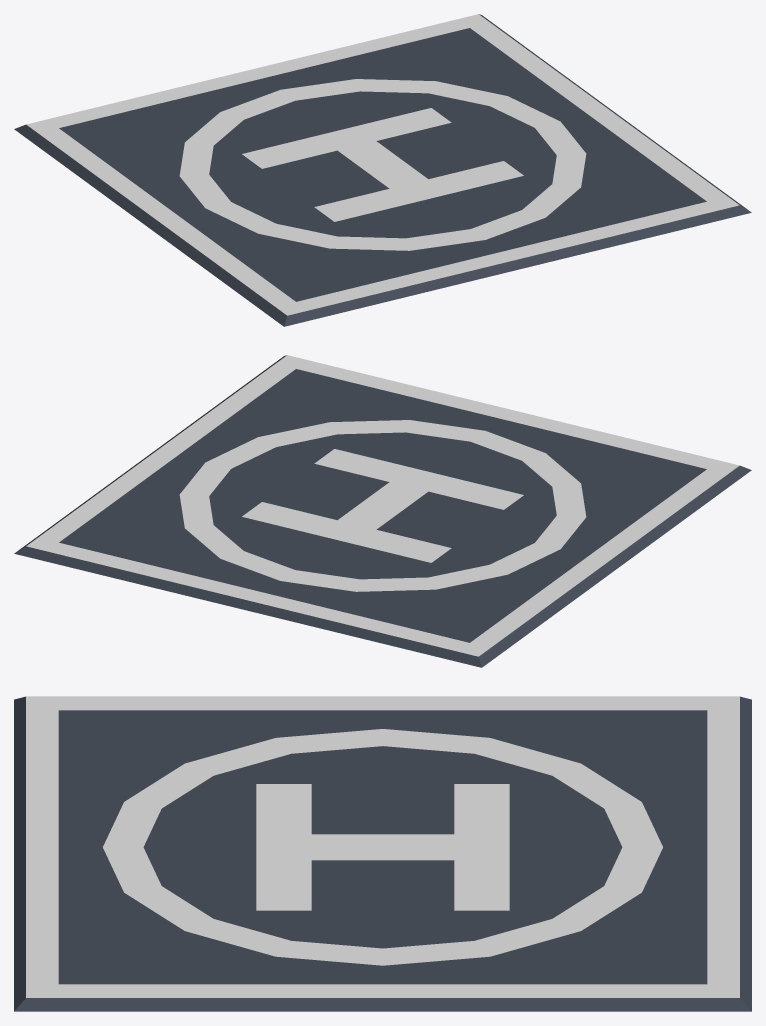
File: HeliLanding_1_B.fbx
3 renders of one model, top to bottom at view 1: azimuth 30°, elevation 25°; view 2: azimuth 150°, elevation 25°; view 3: azimuth 270°, elevation 25°, orthographic. The views are drawn at different scales.
Parts seen in each view (by area): view 1: HeliLanding_1_B; view 2: HeliLanding_1_B; view 3: HeliLanding_1_B.
Part boxes in pixels (x1=…): HeliLanding_1_B: x1=14, y1=14, x2=751, y2=326; HeliLanding_1_B: x1=14, y1=355, x2=751, y2=667; HeliLanding_1_B: x1=14, y1=696, x2=751, y2=1011.
Size of the model in its own units: 460 by 5.67 by 460.
